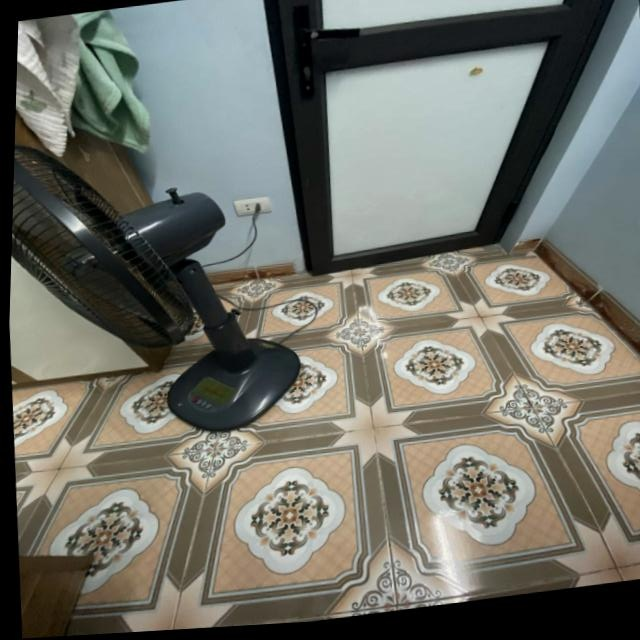outlet: (232, 197, 273, 219)
